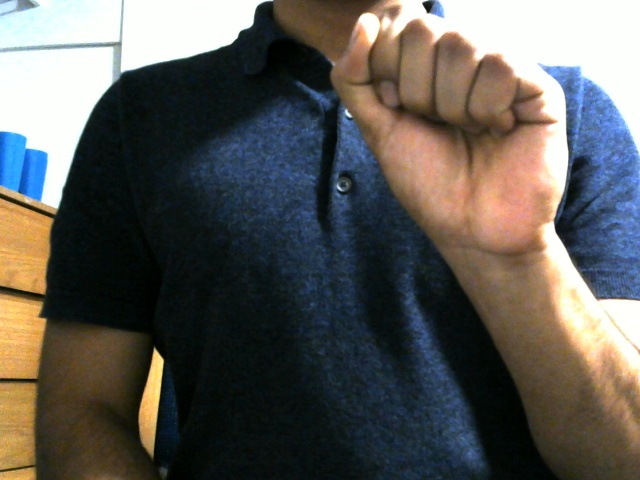A: (322, 2, 579, 261)
